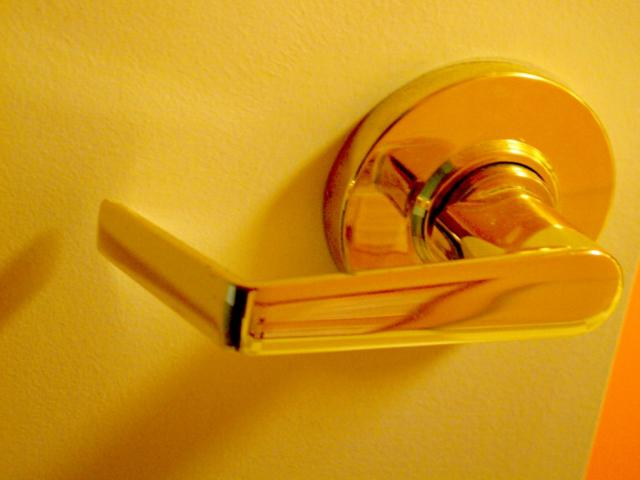Door-handle: (87, 56, 627, 364)
